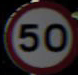Speed limit: (3, 3, 72, 66)
